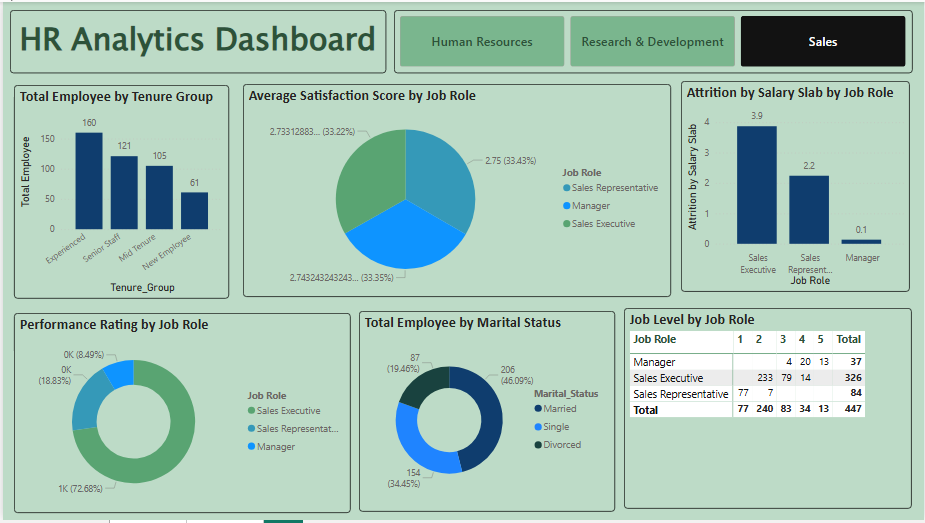

The page's visual inventory and layout, read from the dashboard file:
{"tool":"powerbi","page":{"name":"Page 2","canvas":[1280,720],"ordinal":1},"visuals":[{"type":"textbox","box":[9.7,11.1,522.6,87.6],"z":0},{"type":"clusteredColumnChart","title":"Attrition by Salary Slab by Job Role","fields":{"Category":["HR_Analytics.Job_Role"],"Y":["HR_Analytics.Attrition by Salary Slab"]},"box":[942.4,109.8,318.3,293.3],"z":1000},{"type":"donutChart","title":"Performance Rating by Job Role","fields":{"Category":["HR_Analytics.Job_Role"],"Y":["Sum(HR_Analytics.Performance_Rating)"]},"box":[15.3,432.3,468.4,278],"z":2000},{"type":"pieChart","title":"Average Satisfaction Score by Job  Role","fields":{"Category":["HR_Analytics.Job_Role"],"Y":["HR_Analytics.Average Satisfaction Score"]},"box":[333.6,114,594.9,296.1],"z":3000},{"type":"pivotTable","title":"Job Level by Job  Role","fields":{"Rows":["HR_Analytics.Job_Role"],"Columns":["HR_Analytics.Job_Level"],"Values":["HR_Analytics.Total Employee"]},"box":[863.2,425.3,400.3,279.4],"z":4000},{"type":"clusteredColumnChart","title":"Total Employee by Tenure Group","fields":{"Category":["HR_Analytics.Tenure_Group"],"Y":["HR_Analytics.Total Employee"]},"box":[15.3,115.4,298.8,297.5],"z":6000},{"type":"advancedSlicerVisual","fields":{"Values":["HR_Analytics.Department"]},"box":[543.5,11.1,721.4,87.6],"z":7000},{"type":"donutChart","title":"Total Employee by Marital Status","fields":{"Category":["HR_Analytics.Marital_Status"],"Y":["HR_Analytics.Total Employee"]},"box":[494.8,429.5,355.8,279.4],"z":8000}]}

Visuals, with their boxes in screenshot pixels (x1, y1, x2, y2), scaled from the page's 1280x720 canvas onto the 925x523 screenshot:
textbox: select_region(7, 8, 385, 72)
"Attrition by Salary Slab by Job Role" clusteredColumnChart: select_region(681, 80, 911, 293)
"Performance Rating by Job Role" donutChart: select_region(11, 314, 350, 516)
"Average Satisfaction Score by Job  Role" pieChart: select_region(241, 83, 671, 298)
"Job Level by Job  Role" pivotTable: select_region(624, 309, 913, 512)
"Total Employee by Tenure Group" clusteredColumnChart: select_region(11, 84, 227, 300)
advancedSlicerVisual - HR_Analytics.Department: select_region(393, 8, 914, 72)
"Total Employee by Marital Status" donutChart: select_region(358, 312, 615, 515)
